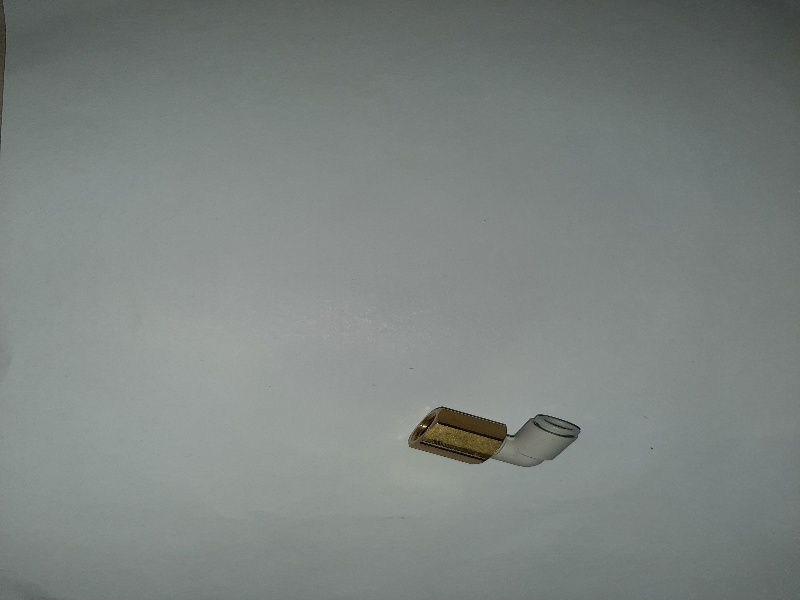Connector: (406, 401, 588, 473)
